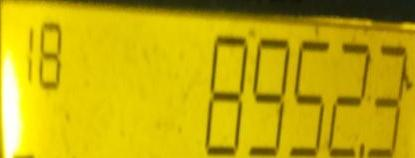0: (357, 143, 366, 158)
3: (327, 38, 370, 158)
4: (366, 46, 408, 158)
6: (288, 40, 328, 158)
9: (203, 33, 249, 158)
object: (247, 36, 291, 157)
